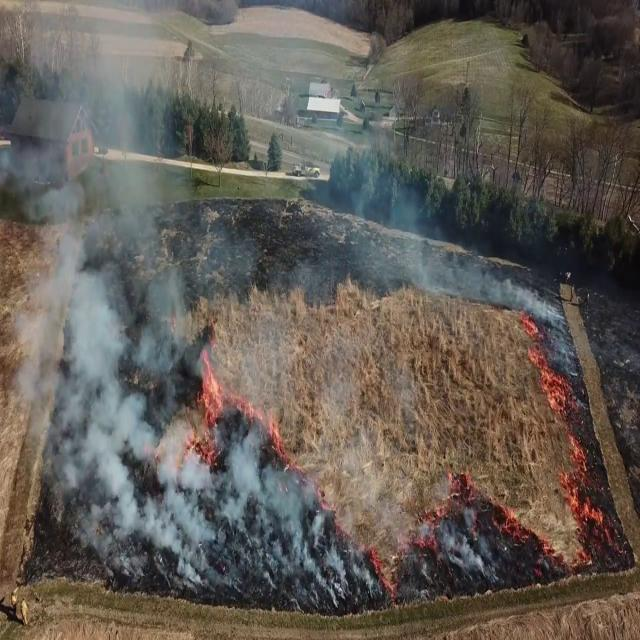Fire: (193, 344, 230, 438)
Smoke: (0, 0, 228, 567)
